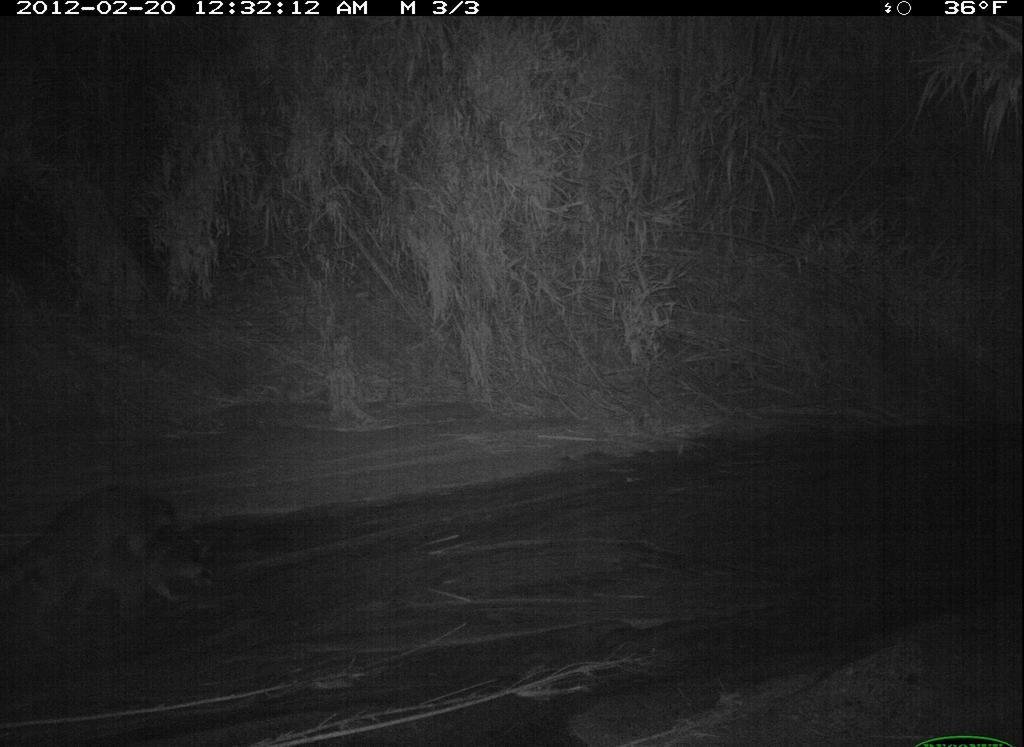raccoon: (1, 467, 215, 627)
